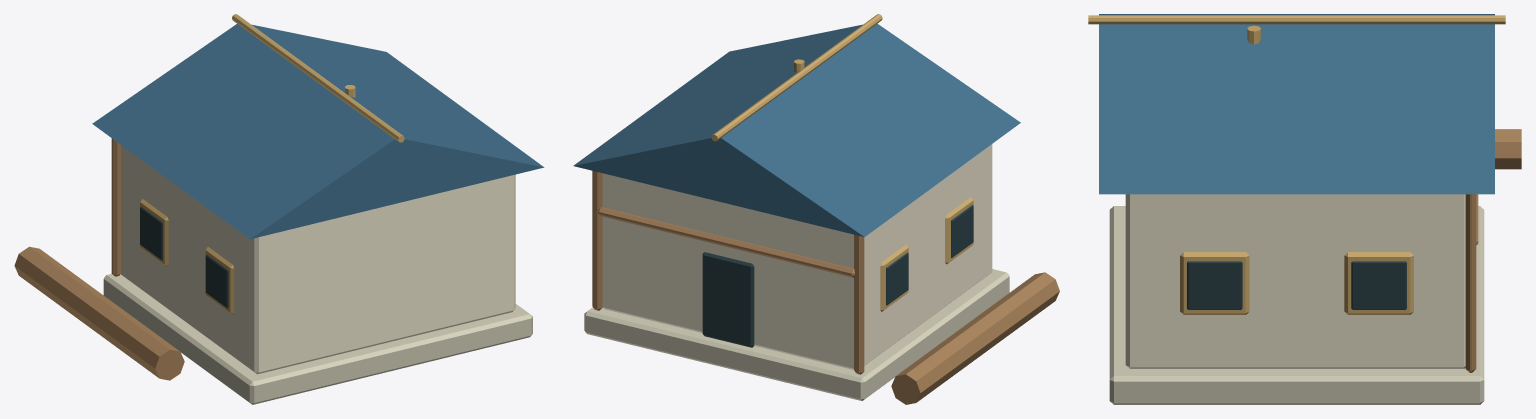
The model's file is level_06.glb.
3 views of the same model, side by side, from view 1: azimuth 30°, elevation 25°; view 2: azimuth 150°, elevation 25°; view 3: azimuth 270°, elevation 25° (orthographic). The views are drawn at different scales.
Visible parts, largest first — view 1: timber_yard — level 06; view 2: timber_yard — level 06; view 3: timber_yard — level 06.
Boxes of the visible parts, x1,y1,x2,y2 form: timber_yard — level 06: (14,14,544,404); timber_yard — level 06: (573,14,1059,404); timber_yard — level 06: (1088,14,1521,404).
Bounding box in the file's own units: 4.89 × 3.14 × 4.05.
